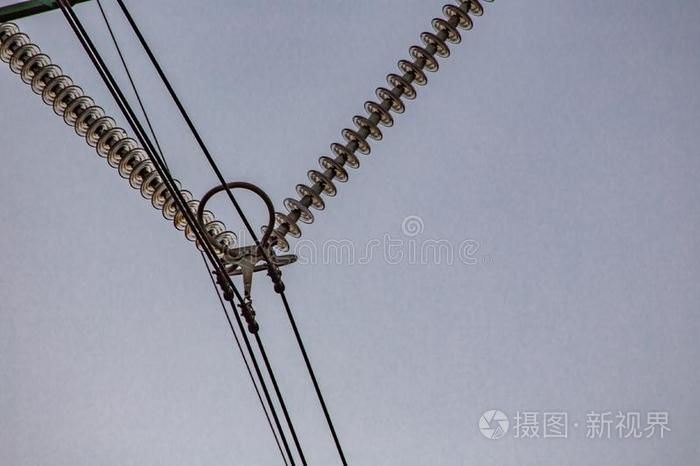insulator: (267, 1, 488, 252), (1, 29, 236, 255)
